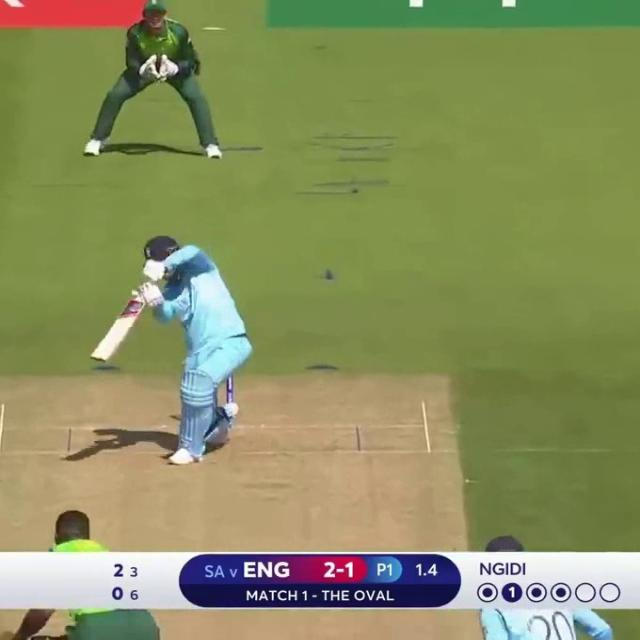bat: (90, 297, 143, 361)
toe: (85, 354, 108, 363)
